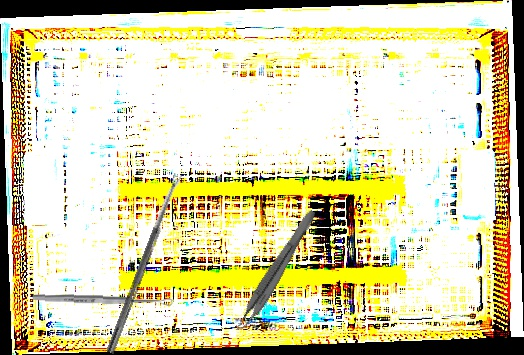Surgical Spoon: (106, 172, 183, 355), (31, 293, 174, 307)
Tissue Forceps: (231, 204, 318, 337)
